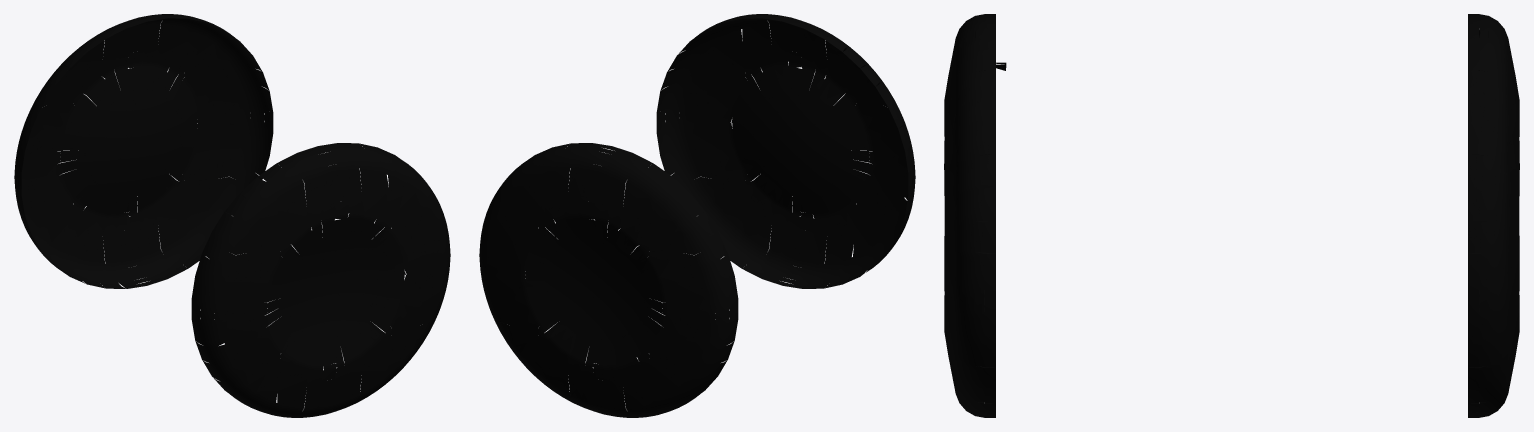
3 views of the same model, side by side, from view 1: azimuth 30°, elevation 25°; view 2: azimuth 150°, elevation 25°; view 3: azimuth 270°, elevation 25° (orthographic). The views are drawn at different scales.
Size of the model in its own units: 0.1181 by 0.1182 by 0.1683.
Materials: 1 (1 with a texture image).
